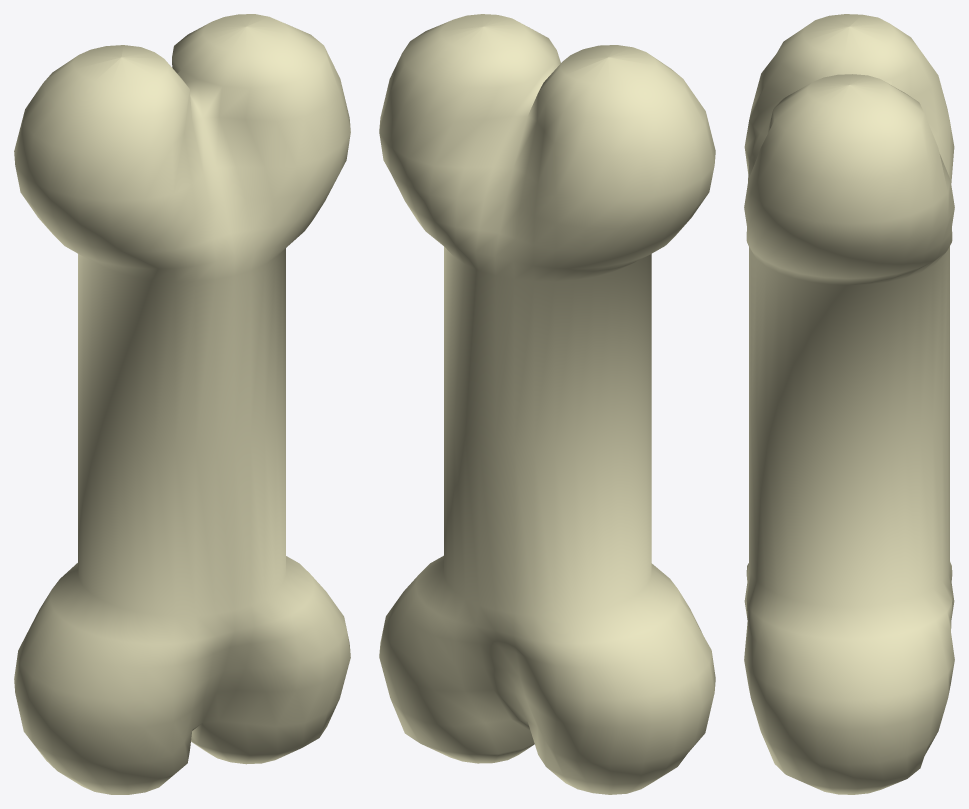
The model's file is Bone.gltf.
3 views of the same model, side by side, from view 1: azimuth 30°, elevation 25°; view 2: azimuth 150°, elevation 25°; view 3: azimuth 270°, elevation 25° (orthographic). The views are drawn at different scales.
Visible parts, largest first — view 1: Bone; view 2: Bone; view 3: Bone.
Part boxes in pixels (x1,y1,x2,y2): Bone: [14, 14, 350, 794]; Bone: [379, 14, 715, 794]; Bone: [744, 14, 954, 794].
Size of the model in its own units: 0.2406 by 0.5377 by 0.1471.
